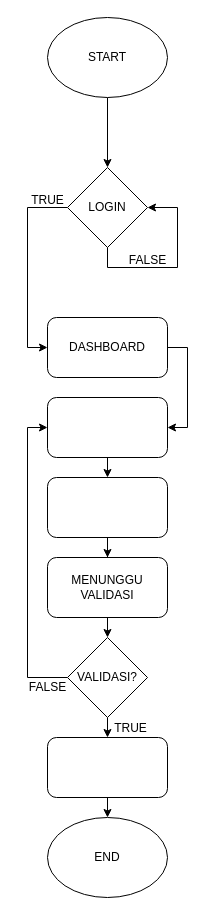
This 213x915 diagram has some shape labels left out. The box of each missing label's shape, as (x1, y1, x2, y2) in pixels:
INPUT FORM ADD: (46, 396, 168, 458)
SIMPAN DATA: (46, 476, 168, 538)
TAMBAH PENDUDUK SUKSES: (46, 736, 168, 798)
